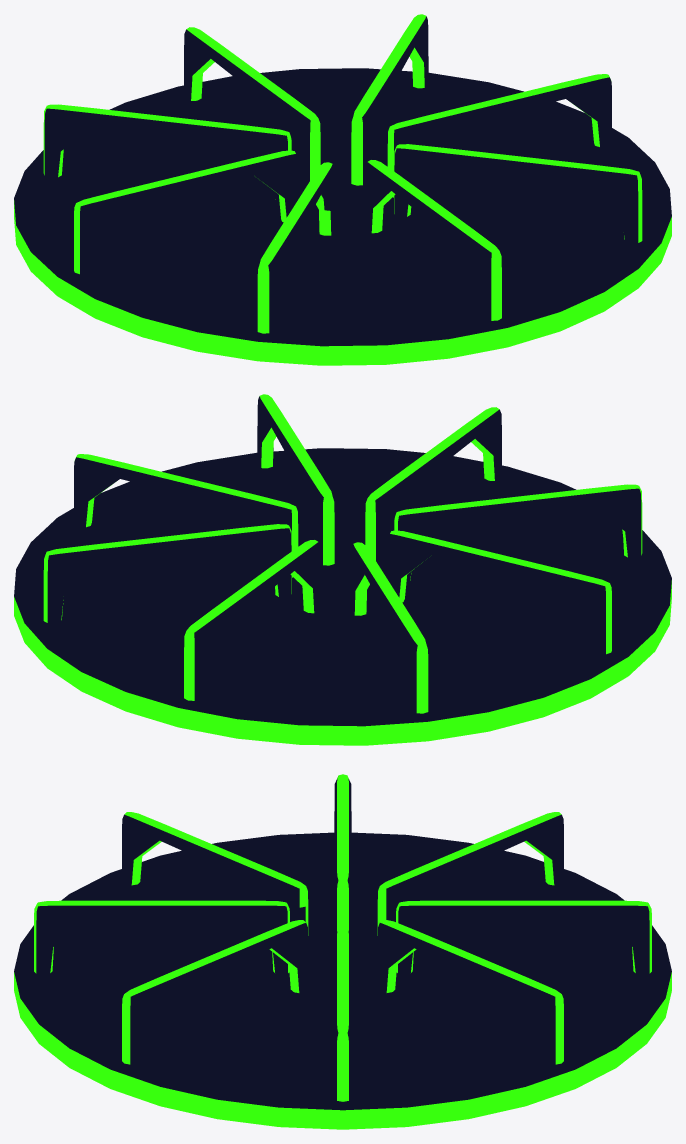
The model's file is carousel.gltf.
The picture shows the model from 3 angles, top to bottom: view 1: azimuth 30°, elevation 25°; view 2: azimuth 150°, elevation 25°; view 3: azimuth 270°, elevation 25°; orthographic projection.
Visible parts, largest first — view 1: Carousel; view 2: Carousel; view 3: Carousel.
Boxes of the visible parts, <box> form: Carousel: <box>14,14,671,365</box>; Carousel: <box>14,394,671,745</box>; Carousel: <box>14,774,671,1129</box>.
Size of what is drawn, in the model's own units: 9.44 by 1.41 by 9.44.
